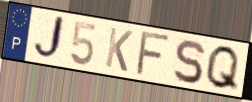5: (69, 19, 99, 67)
F: (133, 30, 174, 78)
J: (31, 14, 67, 63)
K: (104, 26, 135, 75)
Q: (203, 44, 241, 94)
S: (172, 38, 206, 85)
